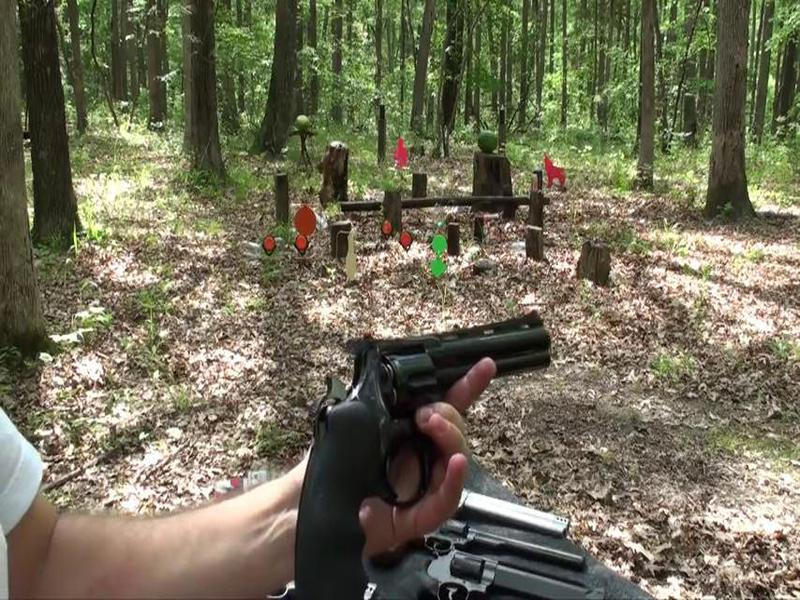Revolver: (271, 299, 563, 579)
